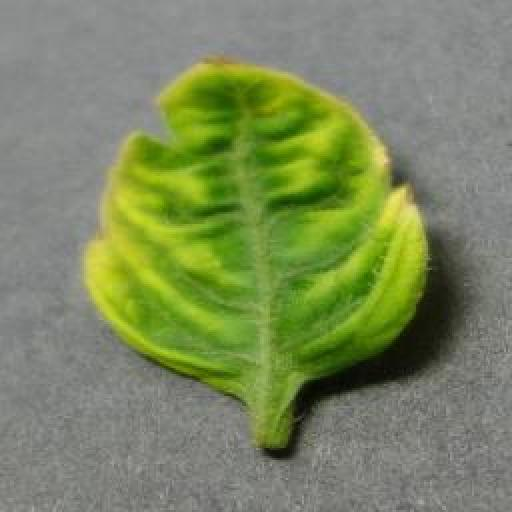Yellow Leaf Curl Virus: (83, 53, 429, 379)
